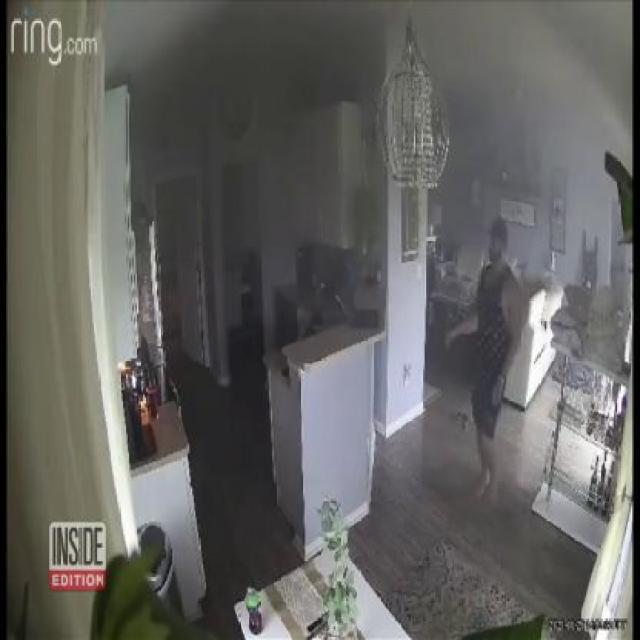smoke: (446, 20, 624, 120), (129, 16, 297, 112)
